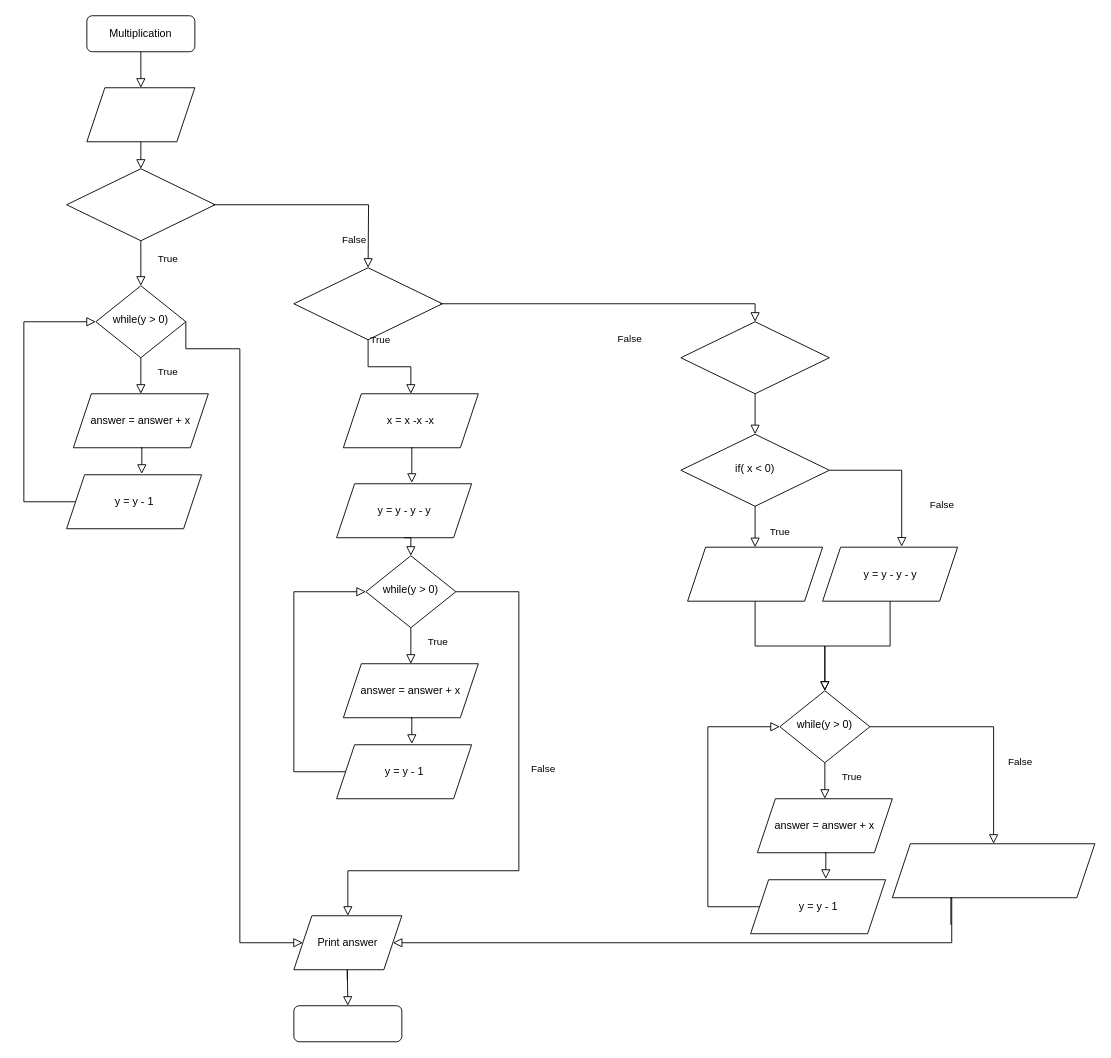
Some shapes in this 1111 by 1058 pixel diagram are drawn without their labels. The shapes that lost their labels are listed below. From the top down, each one's centre as x and y in pixels, then its label:
At pixel 140 114: "Get Numbers X, Y".
At pixel 140 204: "if( x >= 0 AND y >= 0)".
At pixel 367 303: "else if( x < 0 AND y < 0)".
At pixel 754 357: "else".
At pixel 755 573: "x = x - x -x".
At pixel 993 870: "answer = answer - answer - answer".
At pixel 347 1023: "END".
